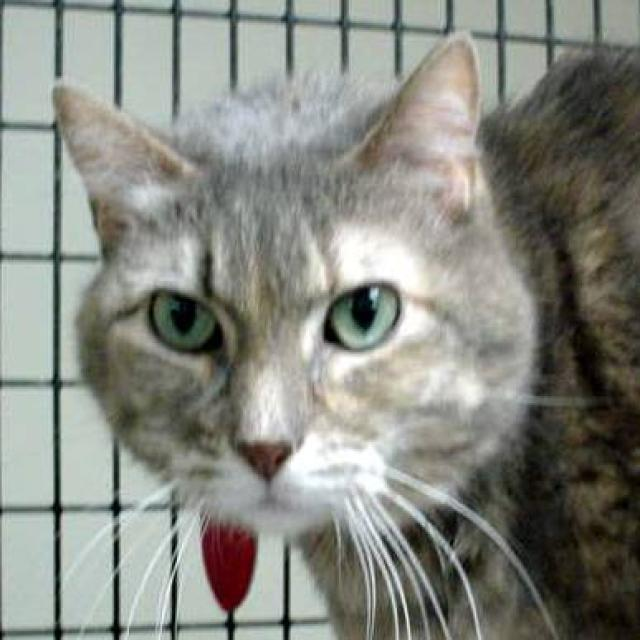cat: (31, 29, 640, 638)
